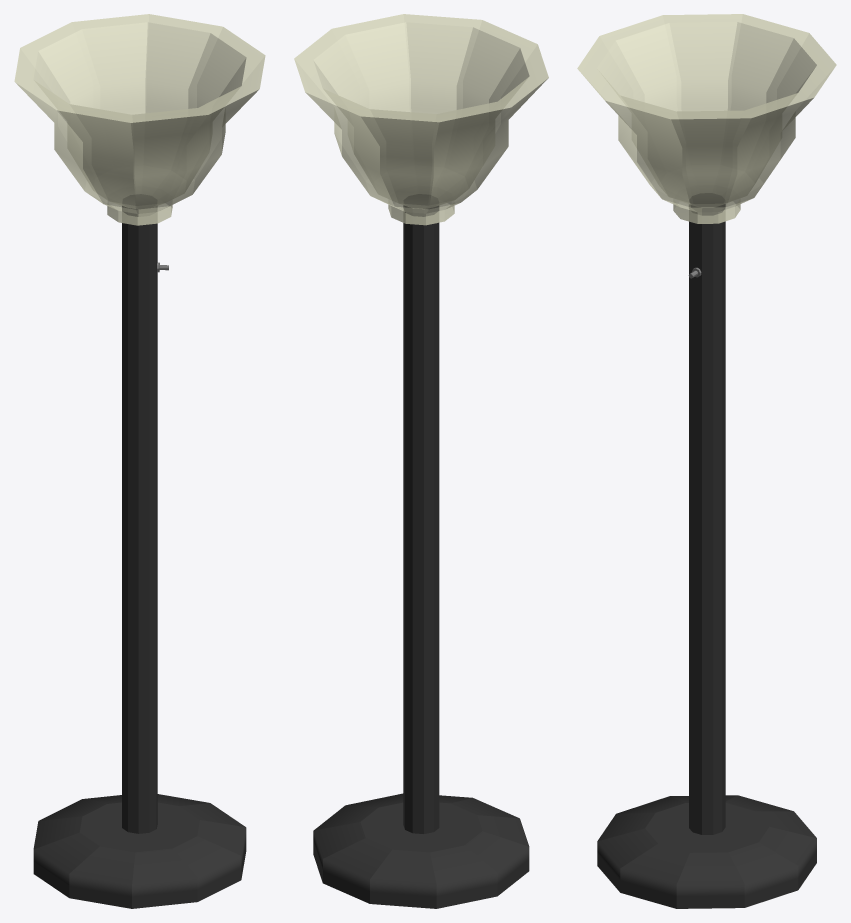
The model's file is LampFloor 1.fbx.
3 renders of one model, left to right at view 1: azimuth 30°, elevation 25°; view 2: azimuth 150°, elevation 25°; view 3: azimuth 270°, elevation 25°, orthographic.
Parts seen in each view (by area): view 1: Pole, LampShade1; view 2: Pole, LampShade1; view 3: Pole, LampShade1.
Part boxes in pixels (x1,y1,x2,y2): Pole: (33, 206, 246, 908); LampShade1: (14, 14, 265, 225); Pole: (313, 205, 529, 908); LampShade1: (294, 14, 548, 225); Pole: (597, 204, 816, 908); LampShade1: (577, 14, 836, 223).
Size of the model in its own units: 0.7702 by 2.72 by 0.801.
